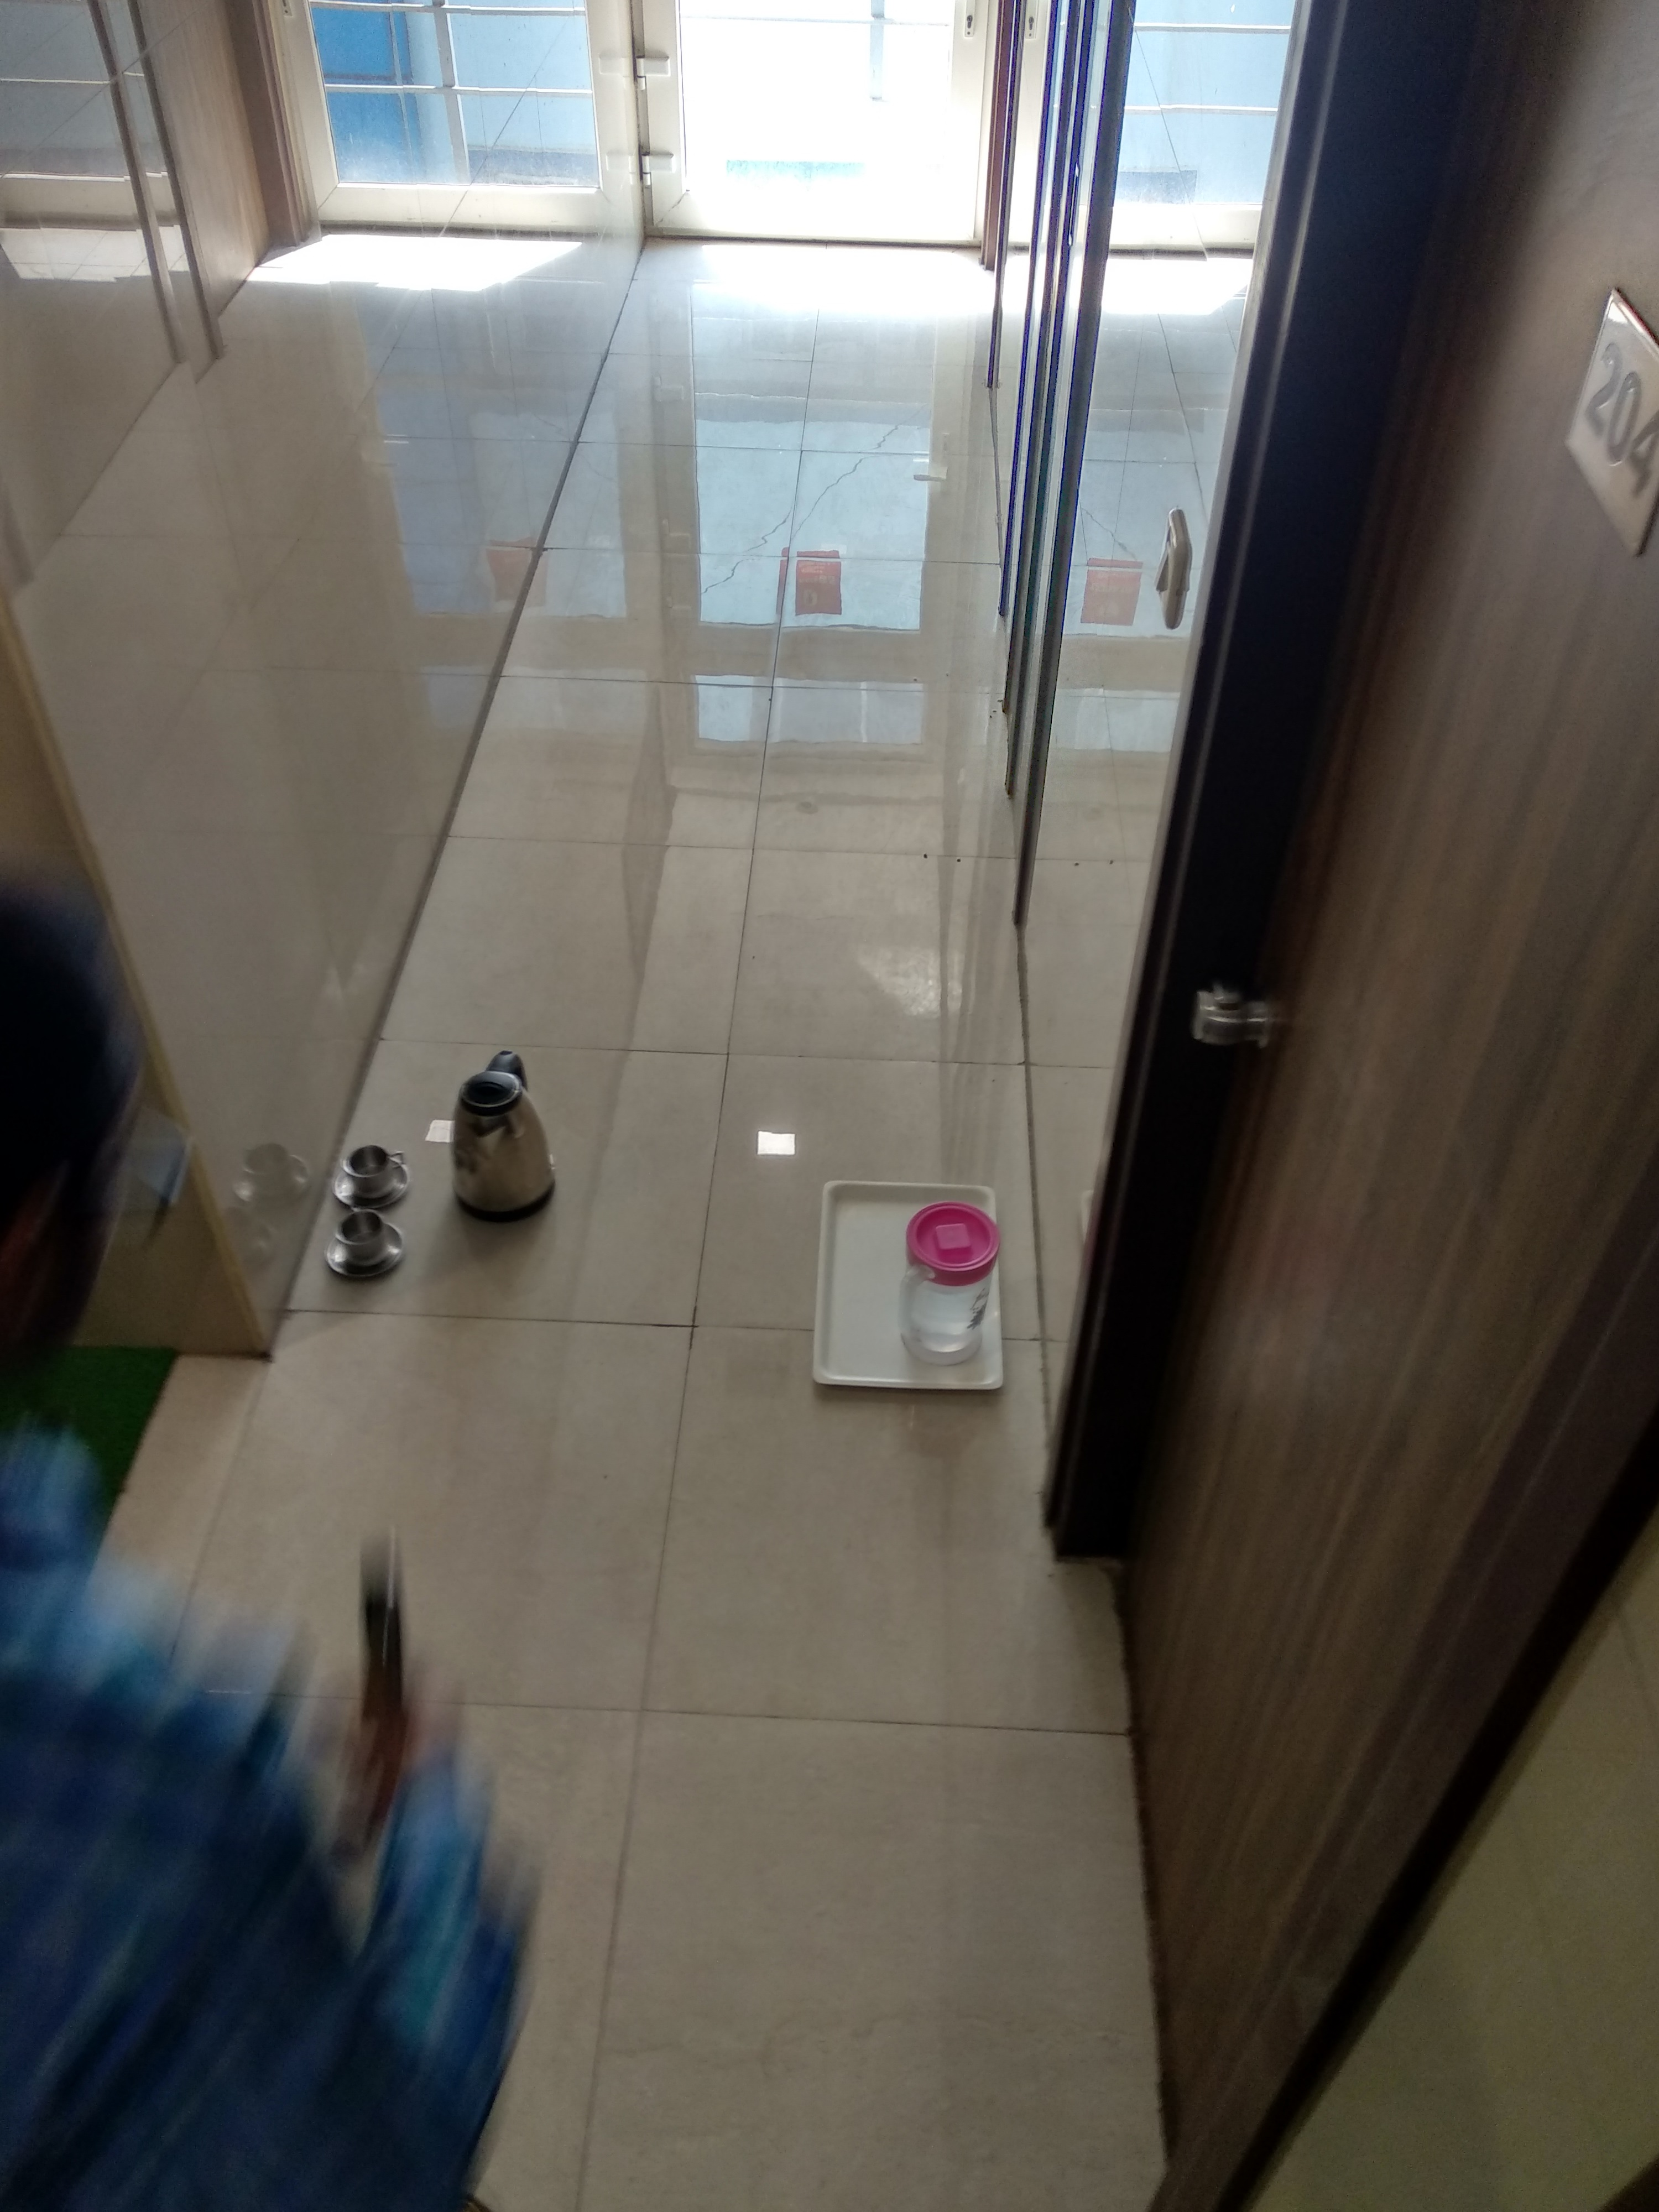CUP: (329, 1127, 413, 1211), (321, 1211, 416, 1280)
JUG: (420, 1042, 592, 1233), (871, 1197, 1006, 1371)
